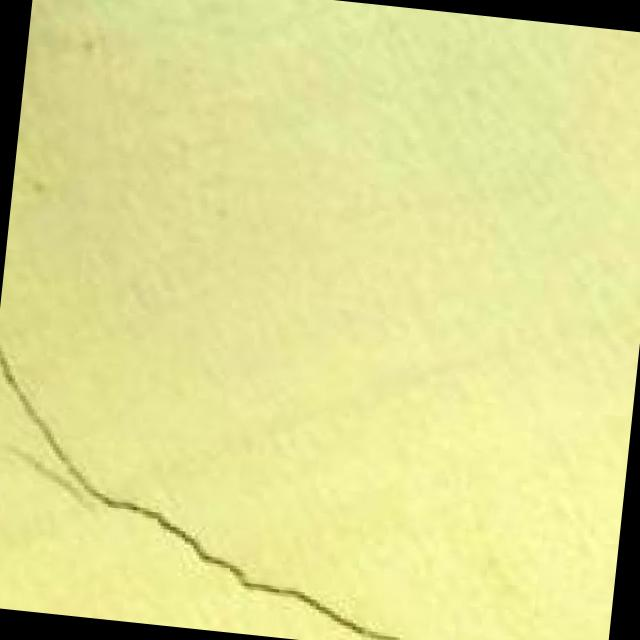crack: (0, 328, 490, 640)
